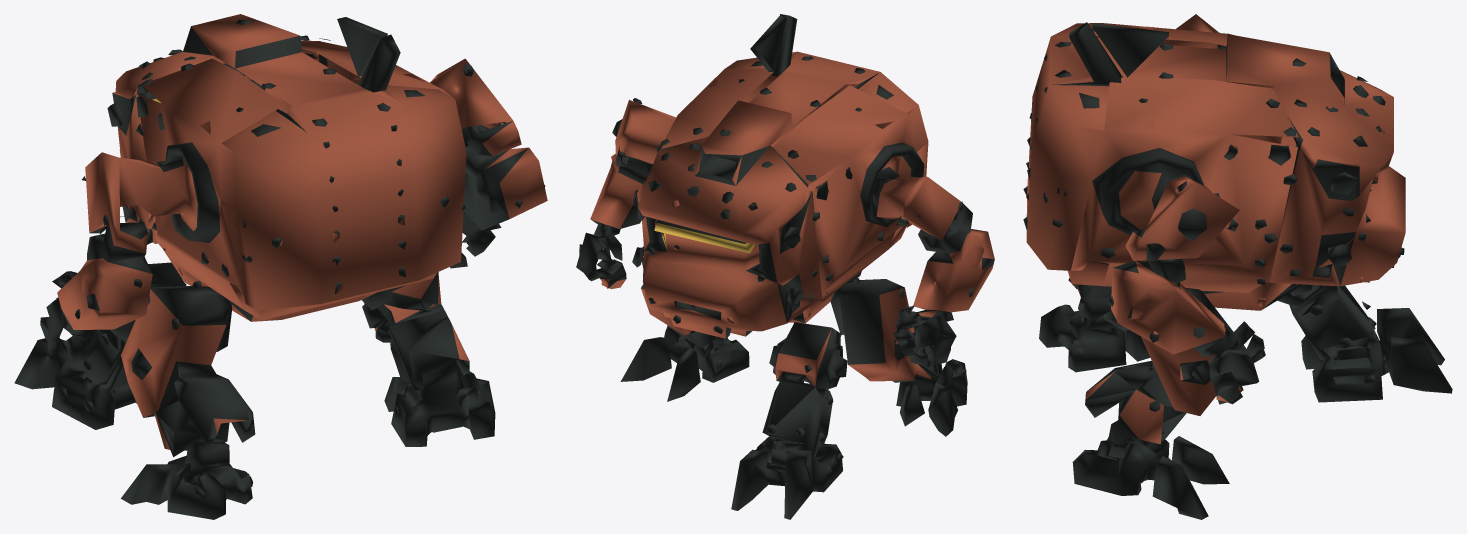
Rendered from enemy_chaser_tripo.glb.
3 views of the same model, side by side, from view 1: azimuth 30°, elevation 25°; view 2: azimuth 150°, elevation 25°; view 3: azimuth 270°, elevation 25° (orthographic). The views are drawn at different scales.
Visible parts, largest first — view 1: ChaserBody, ChaserClaws, ChaserFin; view 2: ChaserBody, ChaserClaws, ChaserFin; view 3: ChaserBody, ChaserClaws, ChaserFin.
Part boxes in pixels (x1=…): ChaserBody: x1=40, y1=14, x2=547, y2=449; ChaserClaws: x1=14, y1=328, x2=495, y2=519; ChaserFin: x1=181, y1=17, x2=424, y2=148; ChaserBody: x1=576, y1=51, x2=994, y2=432; ChaserClaws: x1=620, y1=325, x2=967, y2=519; ChaserFin: x1=664, y1=14, x2=893, y2=185; ChaserBody: x1=1023, y1=14, x2=1405, y2=444; ChaserClaws: x1=1039, y1=278, x2=1452, y2=519; ChaserFin: x1=1044, y1=22, x2=1344, y2=108.
Bounding box in the file's own units: 1.78 × 1.63 × 1.49.
